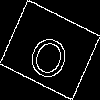O: (24, 25, 76, 83)
